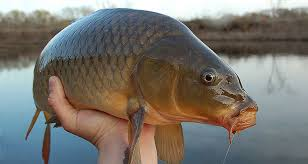carp: (24, 8, 259, 163)
